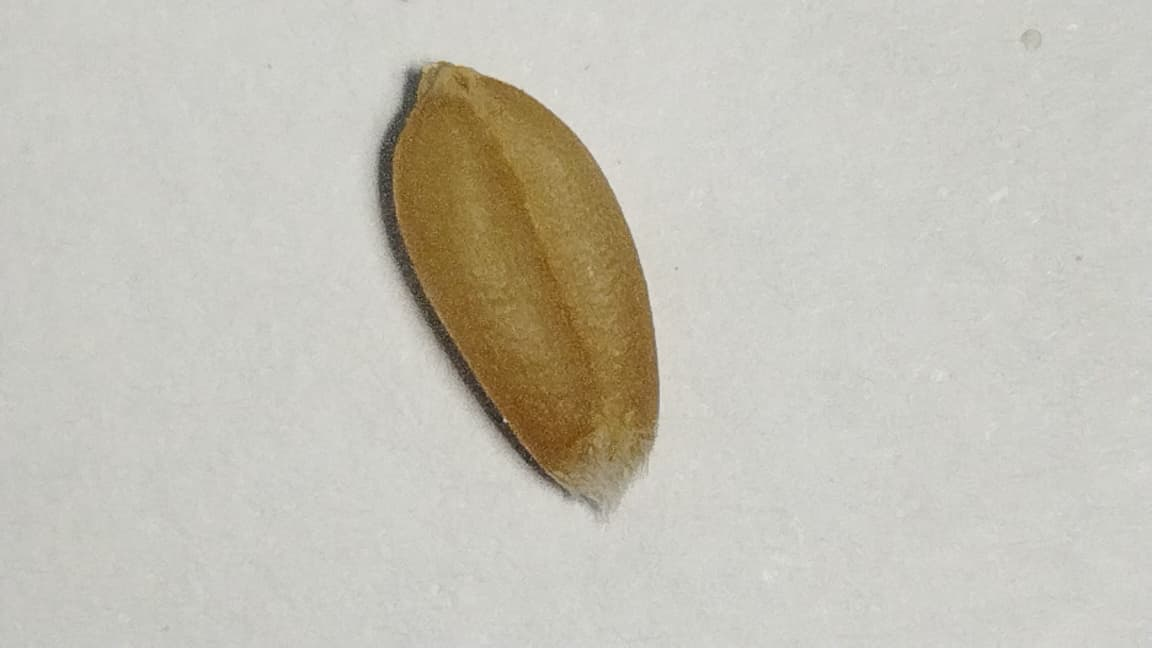healthy: (391, 62, 659, 468)
